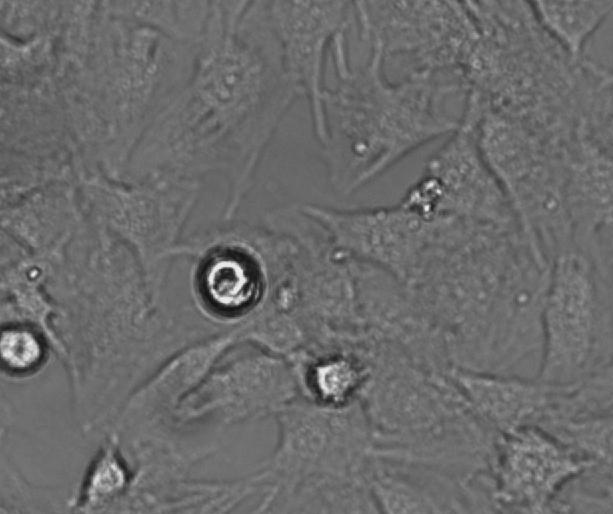Dead: (191, 240, 268, 324), (70, 439, 132, 507), (304, 353, 366, 408), (1, 320, 51, 378)
